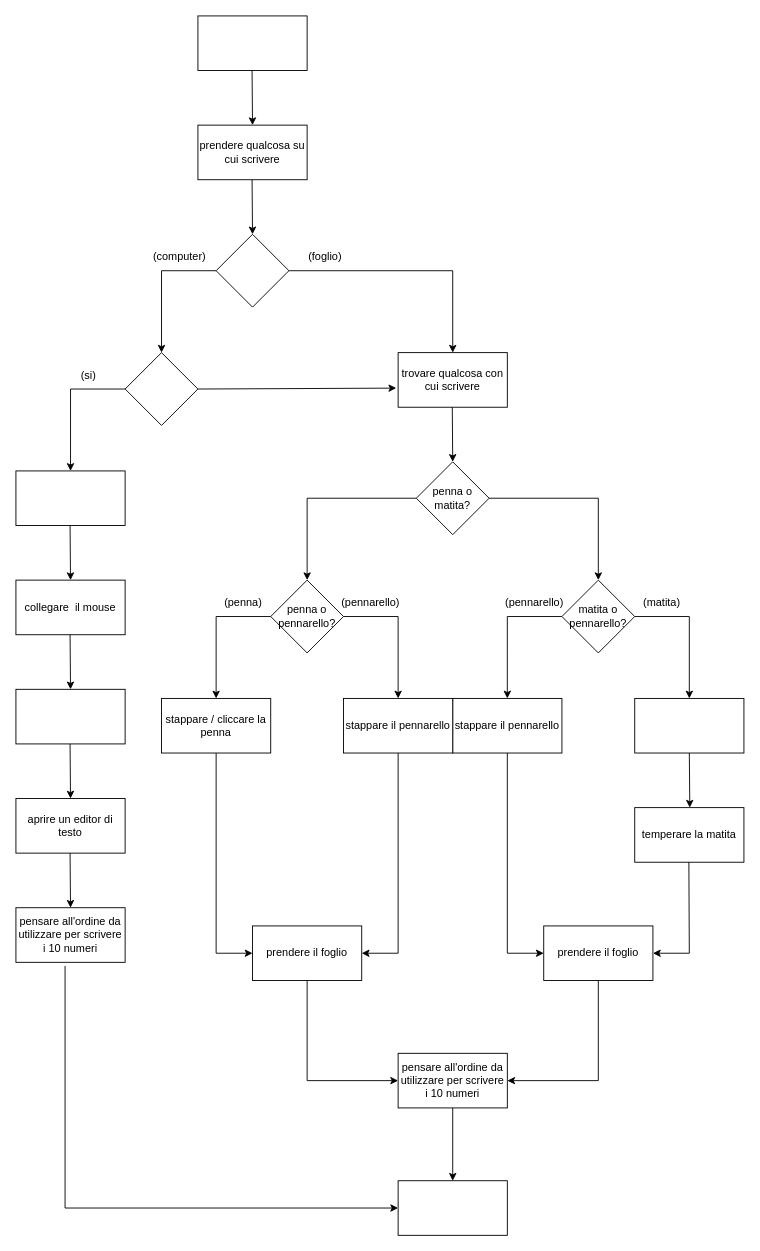
Some shapes in this 760 by 1251 pixel diagram are drawn without their labels. Each missing label, with the box of its shape:
accendere il computer: (15, 688, 125, 744)
c'è la corrente?: (124, 352, 198, 425)
collegare la tastiera: (15, 470, 125, 526)
computer o foglio?: (215, 233, 289, 307)
iniziare a scrivere i 10 numeri: (397, 1180, 507, 1235)
prendere il temperino: (634, 698, 744, 753)
scrive numeri da 1 a 10: (197, 15, 307, 71)
